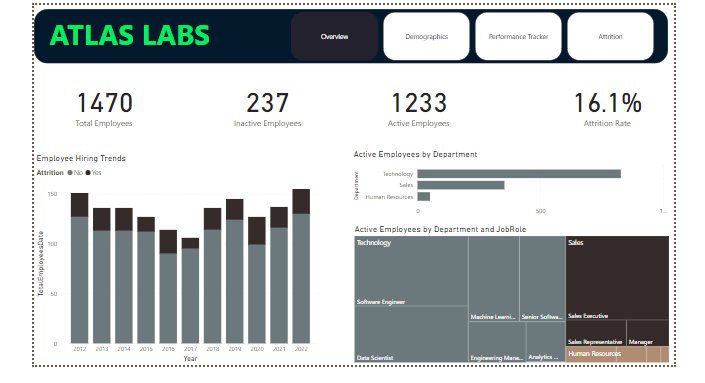

What the dashboard file says about the page in this screenshot:
{"tool":"powerbi","page":{"name":"Overview","canvas":[1280,720],"ordinal":0},"visuals":[{"type":"card","fields":{"Values":["_Measures.Total Employees"]},"box":[34.4,128.5,212.1,140.4],"z":0},{"type":"card","fields":{"Values":["_Measures.Active Employees"]},"box":[357,128.5,218.1,140.4],"z":1000},{"type":"card","fields":{"Values":["_Measures.Inactive Employees"]},"box":[634.9,128.5,270.4,140.4],"z":2000},{"type":"card","fields":{"Values":["_Measures.Attrition Rate"]},"box":[1023.2,128.5,245,140.4],"z":3000},{"type":"columnChart","title":"Employee Hiring Trends","fields":{"Y":["_Measures.TotalEmployeesDate"],"Series":["DimEmployee.Attrition"],"Category":["DimDate.Date.Variation.Date Hierarchy.Year"]},"box":[0,295.8,575.1,424.2],"z":4000},{"type":"group","id":"g1","title":"Group 1","box":[0,7.5,1268.2,109],"z":5000},{"type":"shape","box":[0,7.5,1268.2,109],"z":5500,"group":"g1"},{"type":"textbox","box":[25.4,13.5,440.7,97.1],"z":6000,"group":"g1"},{"type":"clusteredBarChart","fields":{"Category":["DimEmployee.Department"],"Y":["_Measures.Active Employees"]},"box":[634.8,288,639.2,142.5],"z":6000},{"type":"treemap","fields":{"Values":["_Measures.Active Employees"],"Group":["DimEmployee.Department"],"Details":["DimEmployee.JobRole"]},"box":[635,438,639,282],"z":7000},{"type":"pageNavigator","box":[513.9,13.5,729,97.1],"z":8000,"group":"g1"}]}

Visuals, with their boxes on the page's 1280x720 design canvas (x1, y1, x2, y2). These are canvas units, not pixel positions in the 705x383 screenshot, which may show the page scaled, cropped or inside an application window:
card - _Measures.Total Employees: 34, 128, 246, 269
card - _Measures.Active Employees: 357, 128, 575, 269
card - _Measures.Inactive Employees: 635, 128, 905, 269
card - _Measures.Attrition Rate: 1023, 128, 1268, 269
"Employee Hiring Trends" columnChart: 0, 296, 575, 720
"Group 1" group: 0, 8, 1268, 116
shape: 0, 8, 1268, 116
textbox: 25, 14, 466, 111
clusteredBarChart - DimEmployee.Department x _Measures.Active Employees: 635, 288, 1274, 430
treemap - _Measures.Active Employees x DimEmployee.Department: 635, 438, 1274, 720
pageNavigator: 514, 14, 1243, 111
